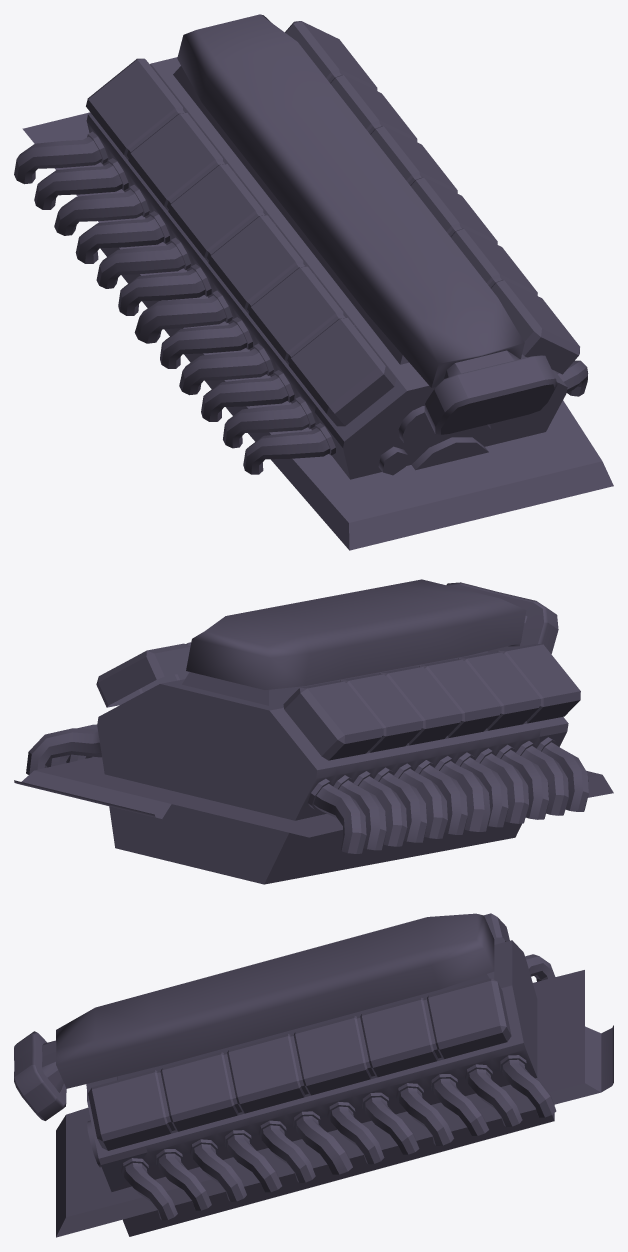
File: cowling1.fbx
3 renders of one model, top to bottom at view 1: azimuth 30°, elevation 25°; view 2: azimuth 150°, elevation 25°; view 3: azimuth 270°, elevation 25°, orthographic. The views are drawn at different scales.
Parts seen in each view (by area): view 1: Car_FBX1.001; view 2: Car_FBX1.001; view 3: Car_FBX1.001.
Part boxes in pixels (box(x1,y1,x2,y2)): Car_FBX1.001: box(14, 14, 613, 550); Car_FBX1.001: box(14, 579, 613, 884); Car_FBX1.001: box(14, 913, 613, 1237).
Size of the model in its own units: 6193 by 5834 by 11223.
